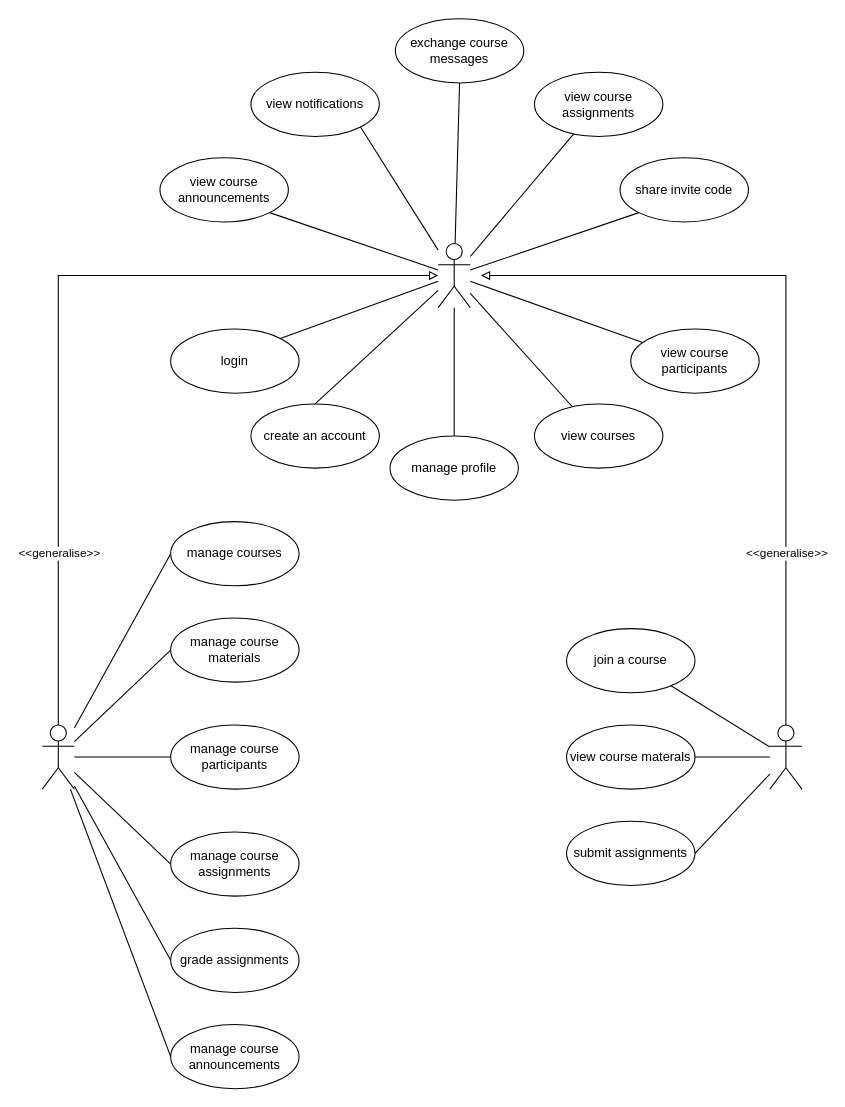
Image size: 845x1107. Some labels were removed from this diagram. Each missing label, with the centre of its shape:
"Student" belongs at [785,756].
"Teacher" belongs at [57,756].
"User" belongs at [453,275].
